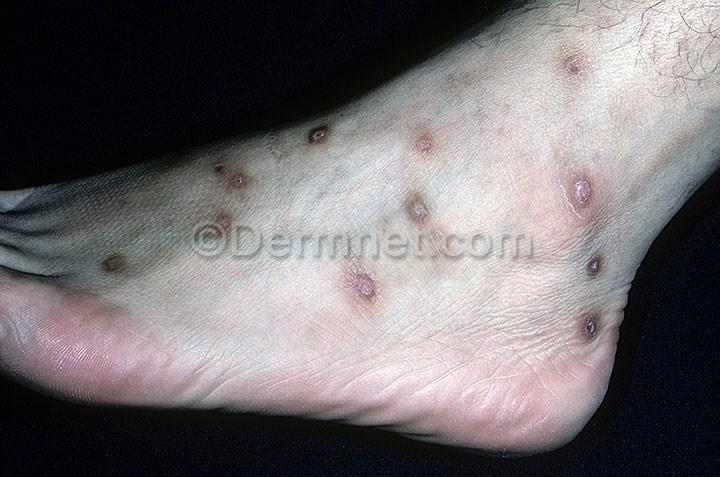Eczema: (318, 254, 397, 327), (465, 90, 536, 158), (78, 232, 148, 298), (543, 27, 601, 104), (393, 179, 452, 254), (182, 204, 258, 259), (556, 292, 614, 362), (401, 106, 455, 179), (291, 115, 357, 173), (546, 156, 605, 217), (568, 241, 635, 293), (205, 154, 273, 201), (437, 64, 492, 99)
